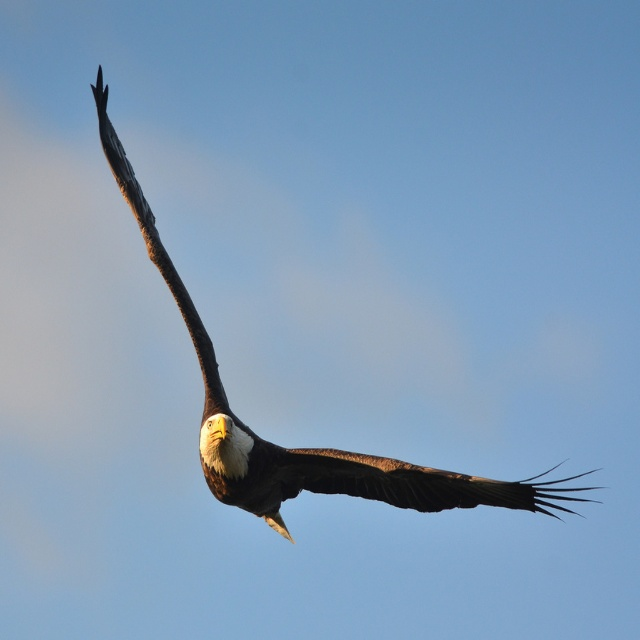Eagle: (87, 65, 615, 545)
